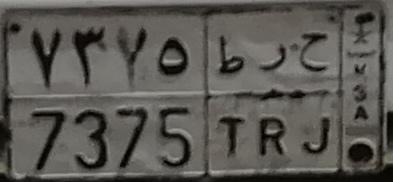3: (71, 24, 109, 169)
5: (157, 35, 192, 167)
7: (27, 26, 68, 170), (114, 26, 149, 169)
J: (299, 33, 331, 154)
R: (257, 43, 288, 159)
T: (215, 34, 245, 159)
